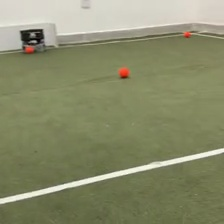ball: (118, 66, 129, 77), (25, 45, 34, 54), (184, 30, 190, 38)
goal: (1, 21, 57, 51)
robot: (19, 27, 45, 52)
